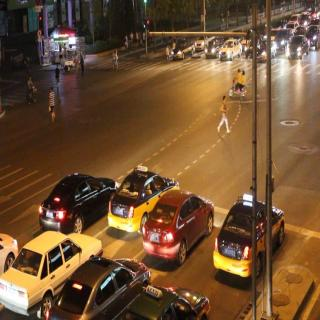Car: (0, 225, 104, 318), (208, 191, 292, 294), (55, 250, 149, 320), (36, 156, 116, 236), (146, 192, 220, 276), (100, 167, 163, 230), (122, 287, 223, 320), (213, 36, 246, 65), (248, 32, 276, 66), (168, 37, 200, 61), (289, 32, 313, 62), (198, 35, 224, 60), (272, 24, 294, 50), (307, 17, 320, 51)
